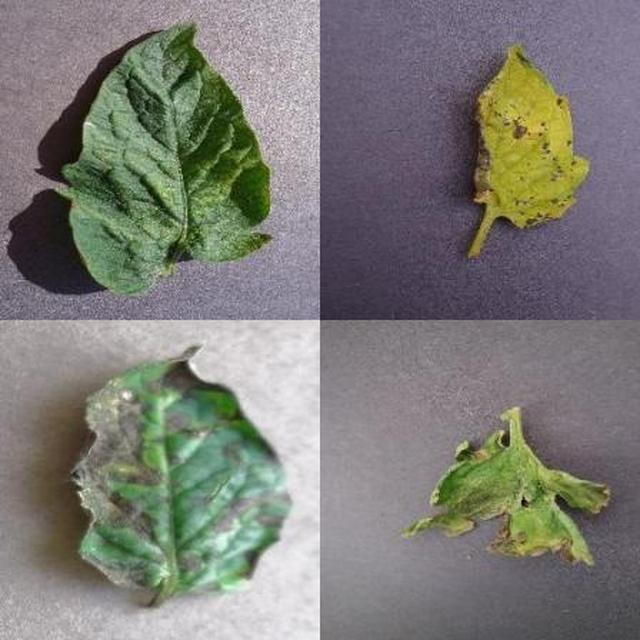Spider Mites Leaf: (180, 193, 640, 640)
